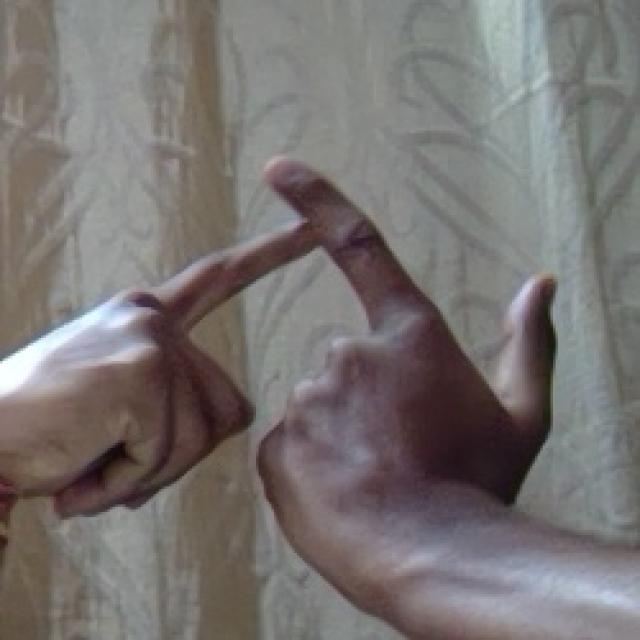Alphabet-J: (37, 143, 567, 616)
